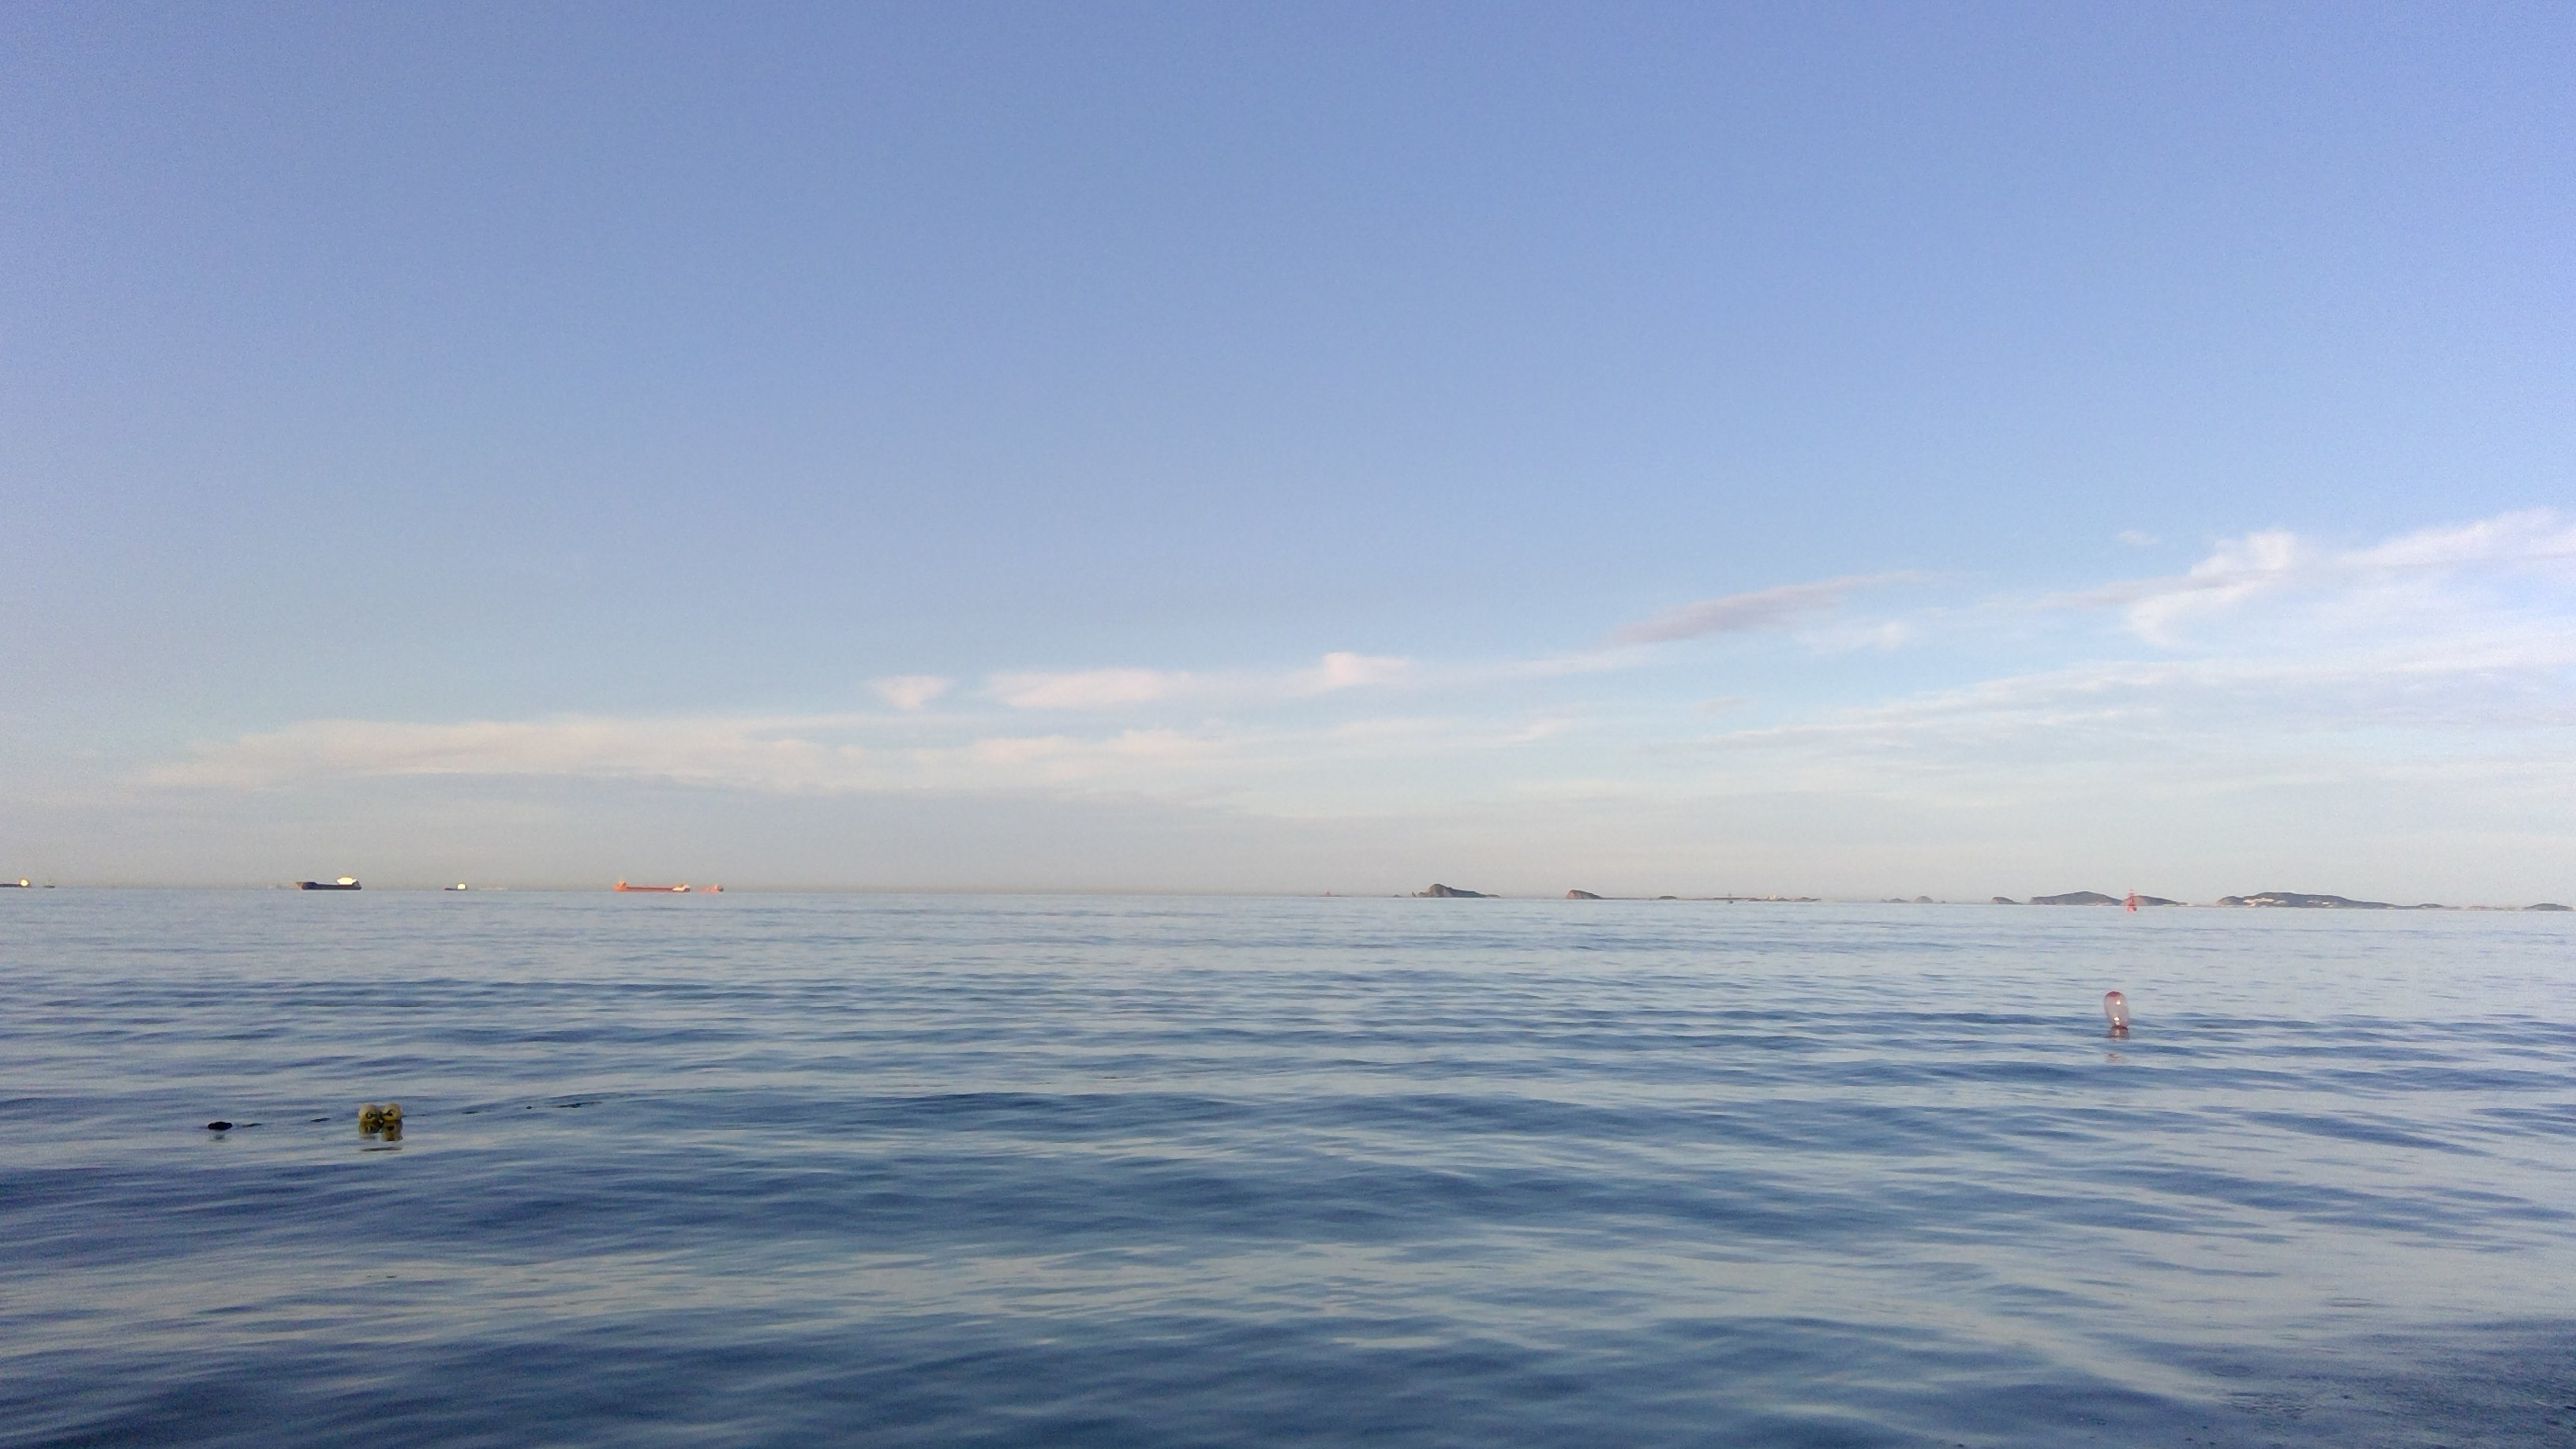buoy: (2118, 890, 2148, 925)
platform: (602, 870, 738, 892)
rock: (1990, 863, 2189, 925), (2217, 881, 2404, 931), (1417, 879, 1493, 906)
rubbish: (350, 1099, 419, 1154), (2100, 987, 2135, 1047), (212, 1104, 249, 1148)
ship: (297, 867, 366, 892)
